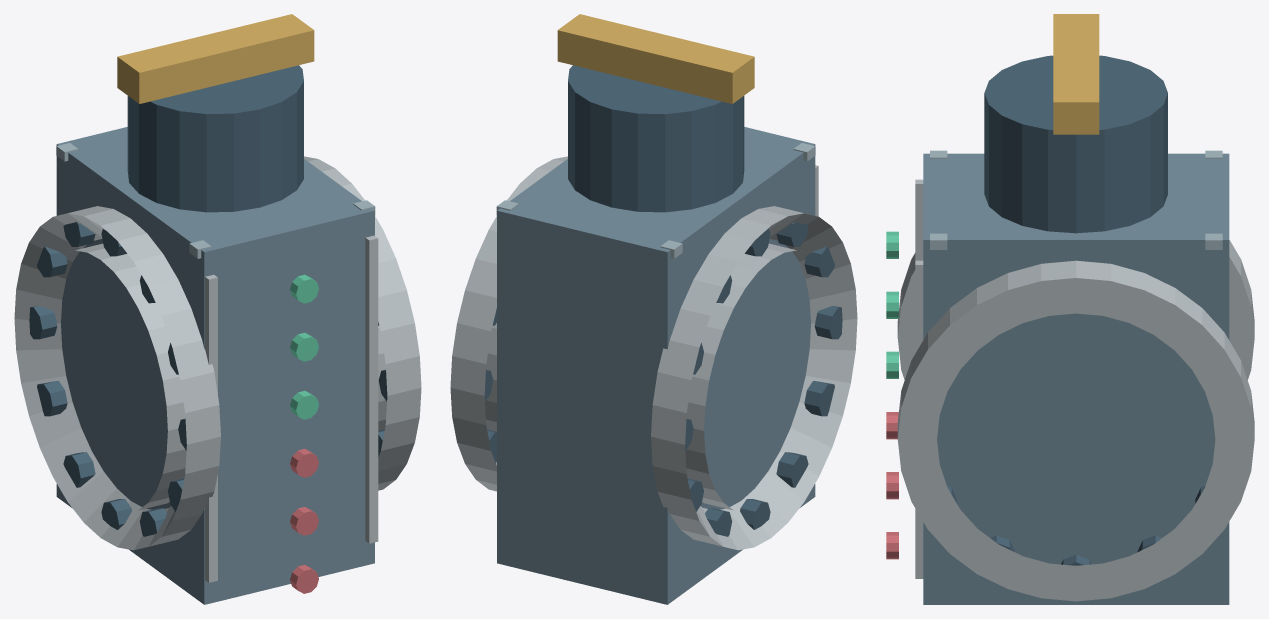
File: 27_L72_AutomaticVacuumThrottleValve.glb
3 renders of one model, left to right at view 1: azimuth 30°, elevation 25°; view 2: azimuth 150°, elevation 25°; view 3: azimuth 270°, elevation 25°, orthographic. The views are drawn at different scales.
Visible parts, largest first — view 1: AutomaticVacuumThrottleValve_Part_000, AutomaticVacuumThrottleValve_Part_007, AutomaticVacuumThrottleValve_Part_033, AutomaticVacuumThrottleValve_Part_034, AutomaticVacuumThrottleValve_Part_020, AutomaticVacuumThrottleValve_Part_006, AutomaticVacuumThrottleValve_Part_005, AutomaticVacuumThrottleValve_Part_016, AutomaticVacuumThrottleValve_Part_017, AutomaticVacuumThrottleValve_Part_015, AutomaticVacuumThrottleValve_Part_018, AutomaticVacuumThrottleValve_Part_014 (+8 smaller); view 2: AutomaticVacuumThrottleValve_Part_000, AutomaticVacuumThrottleValve_Part_007, AutomaticVacuumThrottleValve_Part_033, AutomaticVacuumThrottleValve_Part_034, AutomaticVacuumThrottleValve_Part_020, AutomaticVacuumThrottleValve_Part_012, AutomaticVacuumThrottleValve_Part_011, AutomaticVacuumThrottleValve_Part_013, AutomaticVacuumThrottleValve_Part_010, AutomaticVacuumThrottleValve_Part_014, AutomaticVacuumThrottleValve_Part_009, AutomaticVacuumThrottleValve_Part_015; view 3: AutomaticVacuumThrottleValve_Part_000, AutomaticVacuumThrottleValve_Part_020, AutomaticVacuumThrottleValve_Part_033, AutomaticVacuumThrottleValve_Part_034, AutomaticVacuumThrottleValve_Part_007, AutomaticVacuumThrottleValve_Part_006, AutomaticVacuumThrottleValve_Part_005.
Part boxes in pixels (x1,y1,x2,y2): AutomaticVacuumThrottleValve_Part_000: (56,127,374,604); AutomaticVacuumThrottleValve_Part_007: (14,206,220,550); AutomaticVacuumThrottleValve_Part_033: (127,65,303,212); AutomaticVacuumThrottleValve_Part_034: (117,14,314,103); AutomaticVacuumThrottleValve_Part_020: (304,156,421,490); AutomaticVacuumThrottleValve_Part_006: (365,235,378,543); AutomaticVacuumThrottleValve_Part_005: (205,274,217,582); AutomaticVacuumThrottleValve_Part_016: (37,381,67,416); AutomaticVacuumThrottleValve_Part_017: (29,306,57,339); AutomaticVacuumThrottleValve_Part_015: (63,452,95,487); AutomaticVacuumThrottleValve_Part_018: (37,246,67,277); AutomaticVacuumThrottleValve_Part_014: (101,499,131,529); AutomaticVacuumThrottleValve_Part_000: (497,127,815,604); AutomaticVacuumThrottleValve_Part_007: (651,206,857,550); AutomaticVacuumThrottleValve_Part_033: (568,65,744,212); AutomaticVacuumThrottleValve_Part_034: (557,14,754,103); AutomaticVacuumThrottleValve_Part_020: (450,156,567,491); AutomaticVacuumThrottleValve_Part_012: (804,381,834,416); AutomaticVacuumThrottleValve_Part_011: (814,306,842,339); AutomaticVacuumThrottleValve_Part_013: (776,452,808,487); AutomaticVacuumThrottleValve_Part_010: (804,246,834,277); AutomaticVacuumThrottleValve_Part_014: (740,499,770,529); AutomaticVacuumThrottleValve_Part_009: (776,222,808,246); AutomaticVacuumThrottleValve_Part_015: (705,508,732,536); AutomaticVacuumThrottleValve_Part_000: (923,153,1229,604); AutomaticVacuumThrottleValve_Part_020: (897,260,1254,601); AutomaticVacuumThrottleValve_Part_033: (984,55,1167,233); AutomaticVacuumThrottleValve_Part_034: (1053,14,1099,134); AutomaticVacuumThrottleValve_Part_007: (897,240,1254,379); AutomaticVacuumThrottleValve_Part_006: (915,260,923,578); AutomaticVacuumThrottleValve_Part_005: (915,179,923,260).
Bounding box in the file's own units: 0.55 × 1.09 × 0.7225.
